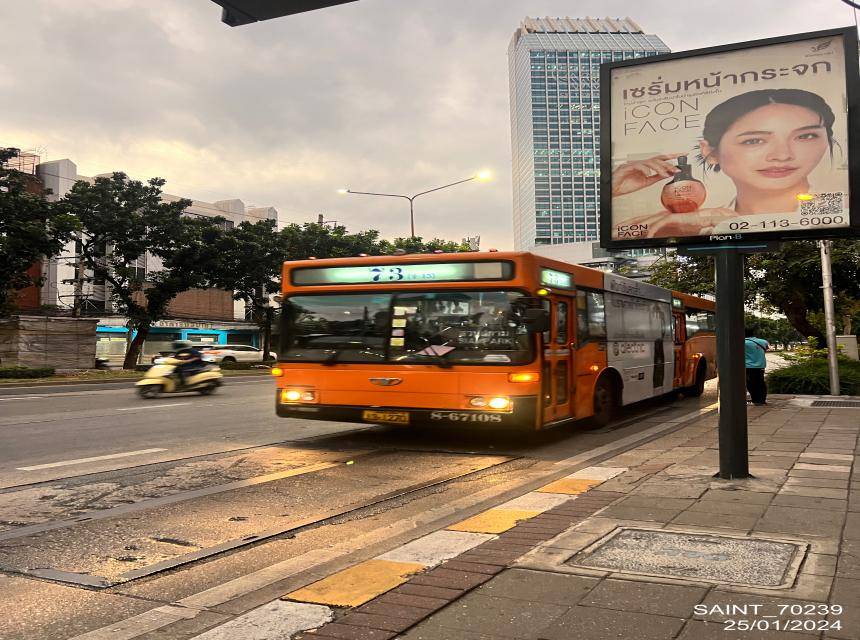BMTA-bus: (270, 252, 718, 443)
Bus Line Number: (361, 264, 441, 283)
Bus Side Number: (422, 408, 507, 428)
Destination Sign: (445, 327, 519, 347)
